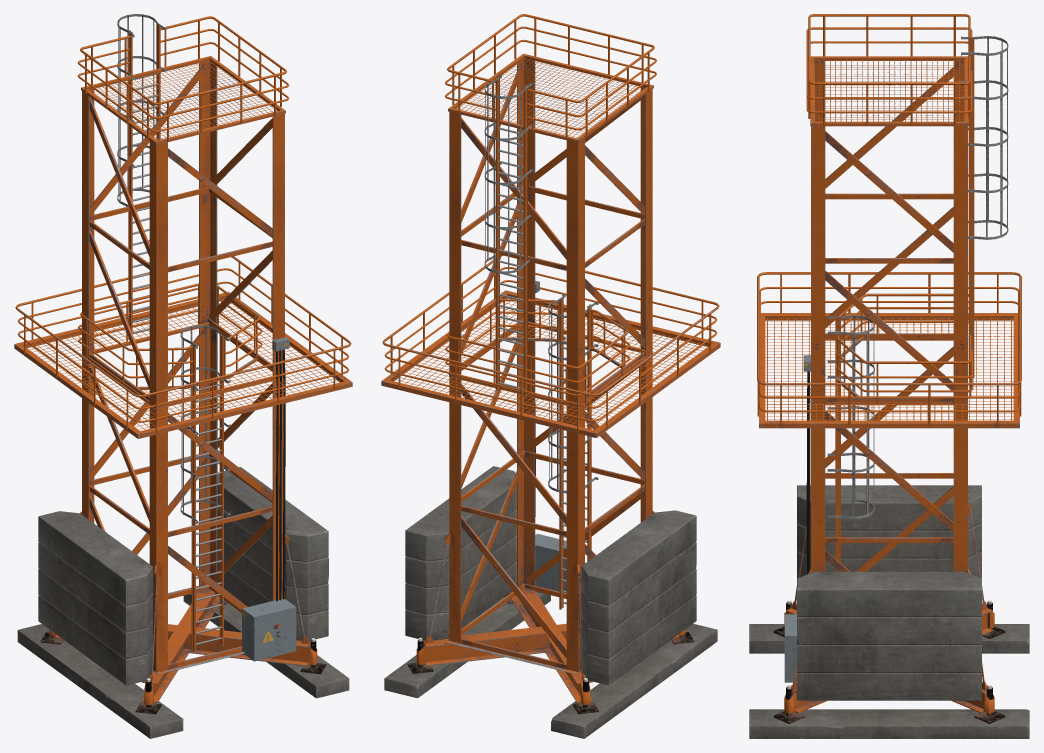
File: CraneBasePrefab_01.fbx
3 renders of one model, left to right at view 1: azimuth 30°, elevation 25°; view 2: azimuth 150°, elevation 25°; view 3: azimuth 270°, elevation 25°, orthographic. The views are drawn at different scales.
Parts seen in each view (by area): view 1: Crane_Base_Prefab_01_LOD0; view 2: Crane_Base_Prefab_01_LOD0; view 3: Crane_Base_Prefab_01_LOD0.
Boxes of the visible parts, x1,y1,x2,y2 form: Crane_Base_Prefab_01_LOD0: [14, 14, 352, 738]; Crane_Base_Prefab_01_LOD0: [381, 14, 720, 738]; Crane_Base_Prefab_01_LOD0: [749, 14, 1029, 738].
Size of what is drawn, in the model's own units: 5.15 by 13.81 by 5.45.
